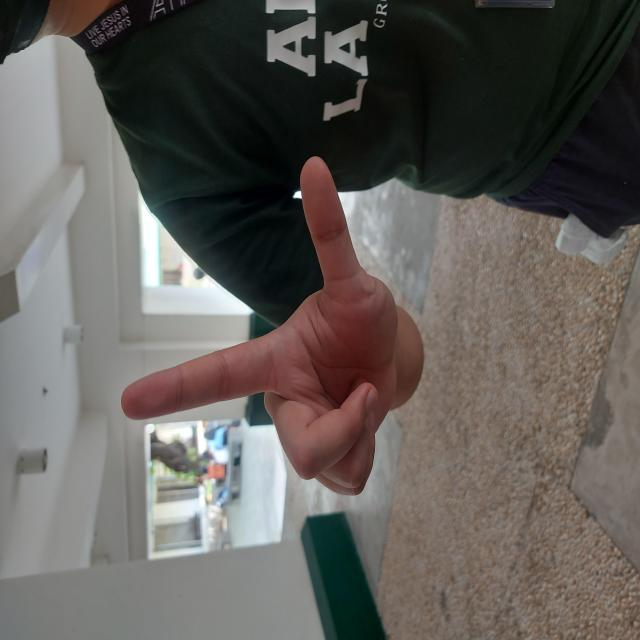L: (142, 118, 485, 402)
